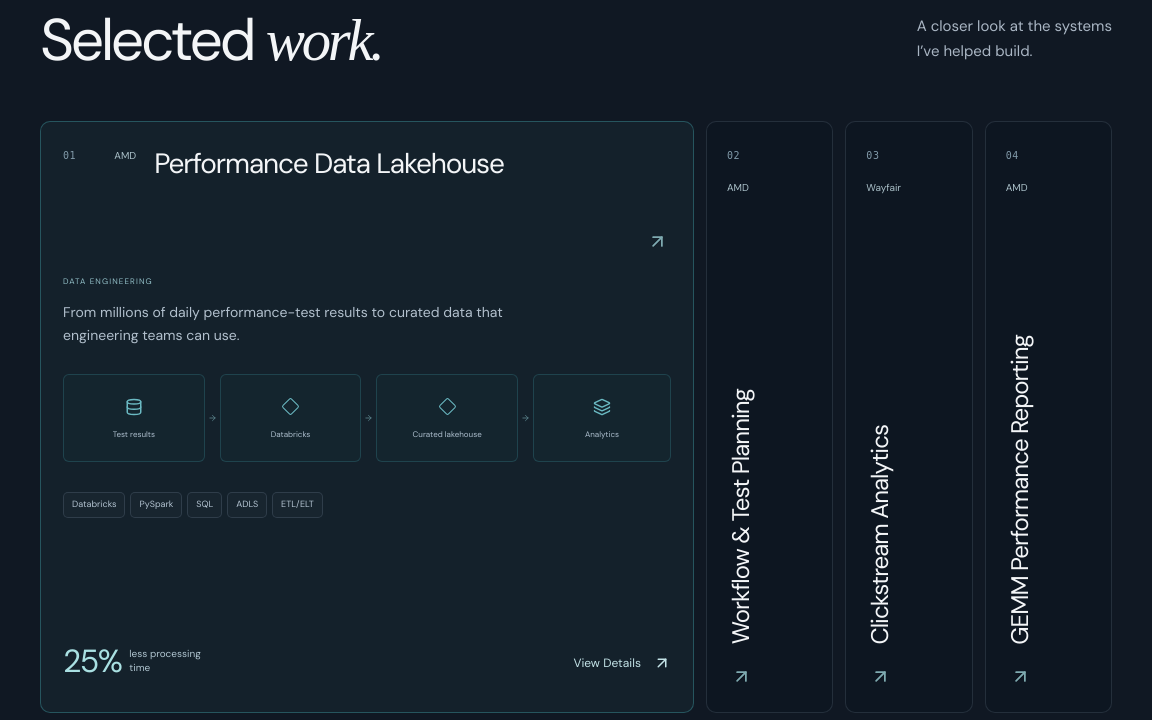
work panels and case-study dialogs › expands a different panel and restores focus after closing its details
(page scrolled)
Click the button with aria-label "Explore Workflow and Test Planning Platform": (770, 416) [707,122,832,712]
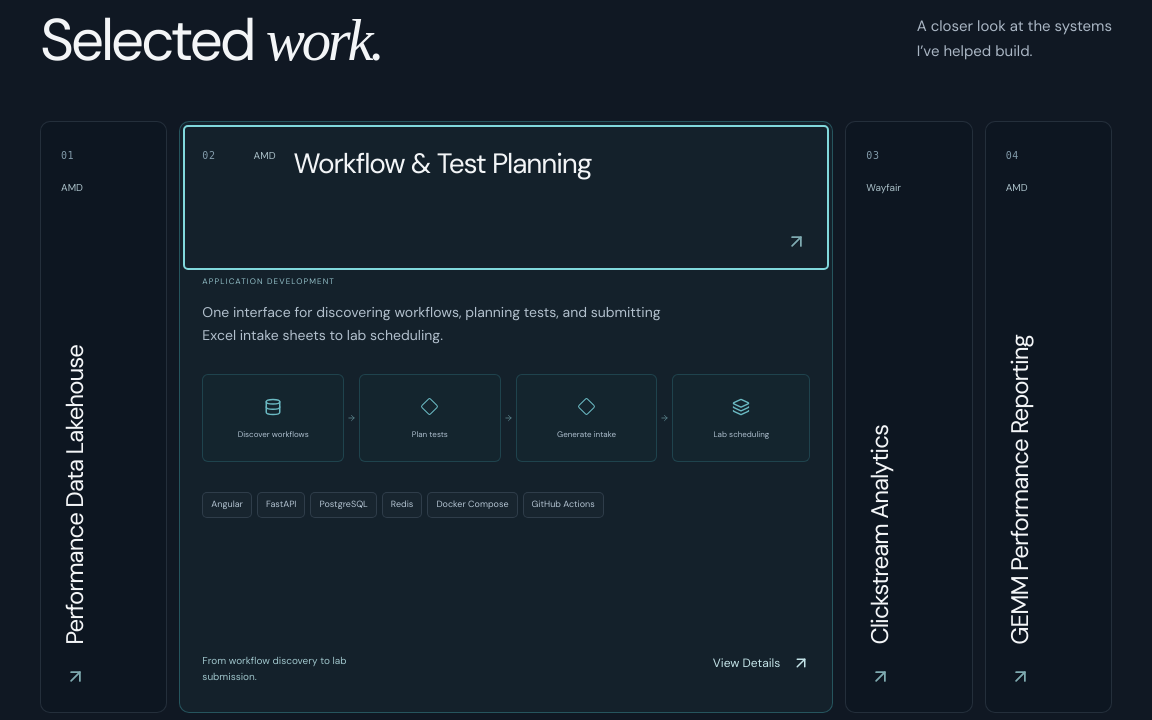
Check: the button with aria-label "Explore Workflow and Test Planning Platform" is expanded, box [180,122,832,272]
Check: the button with aria-label "Explore Performance Data Lakehouse" is collapsed, box [41,122,166,712]
Click the button "View Details": (762, 662) [713,640,810,684]
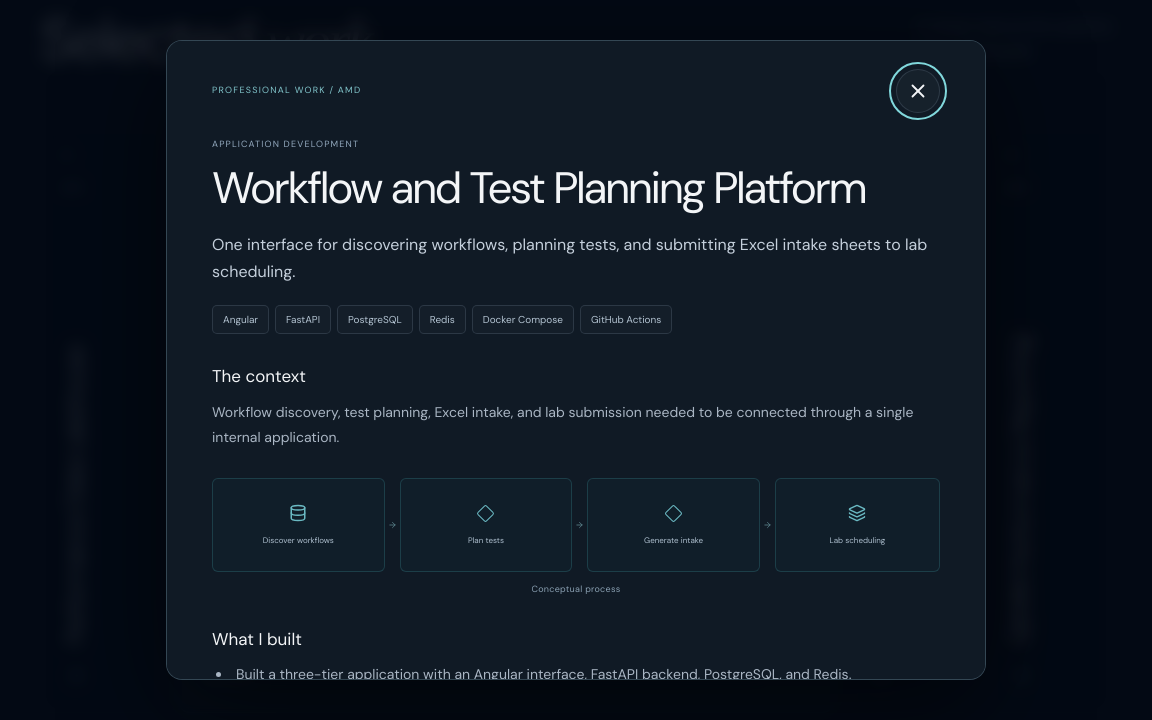
Check: the heading "Workflow and Test Planning Platform" is shown, box [212,164,892,213]
Click the button named "Close case study": (918, 91) [896,69,940,113]
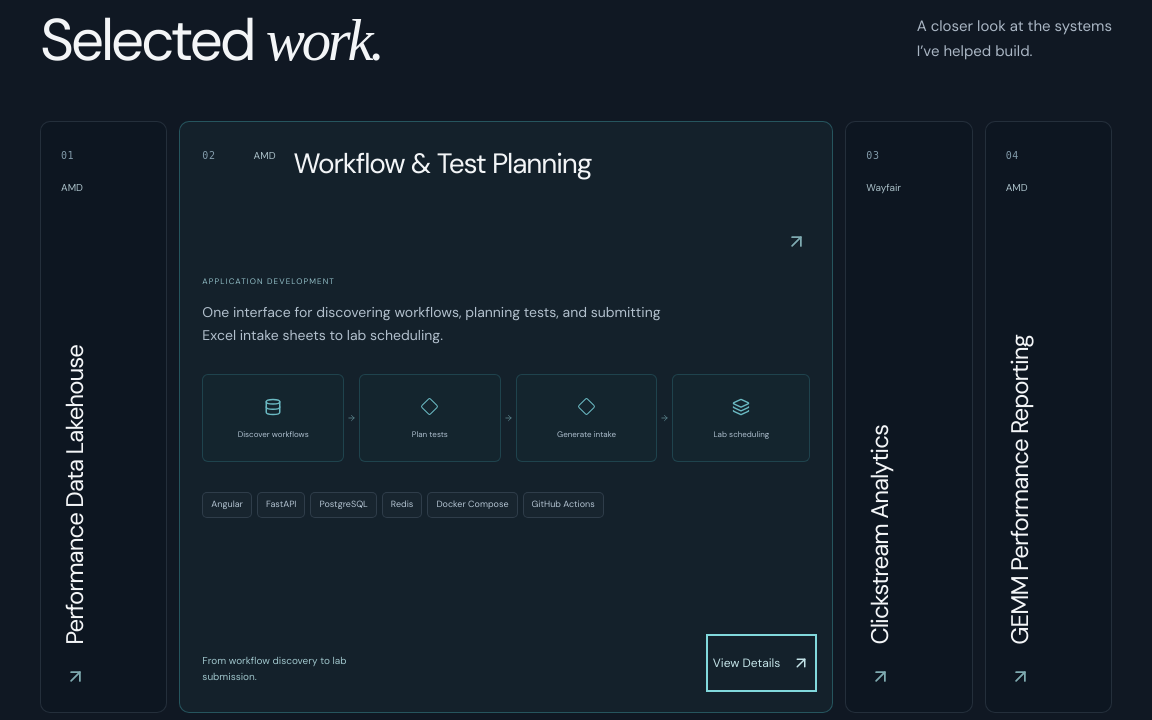
Check: the dialog is gone
